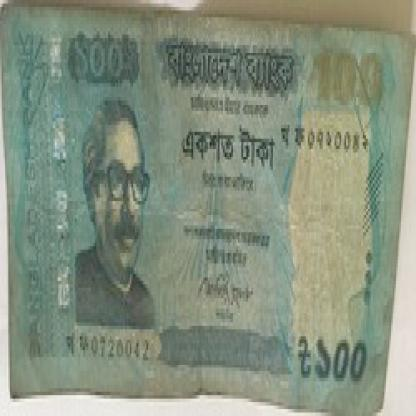one hundred taka: (308, 28, 388, 100), (61, 38, 142, 90), (313, 322, 373, 392)
